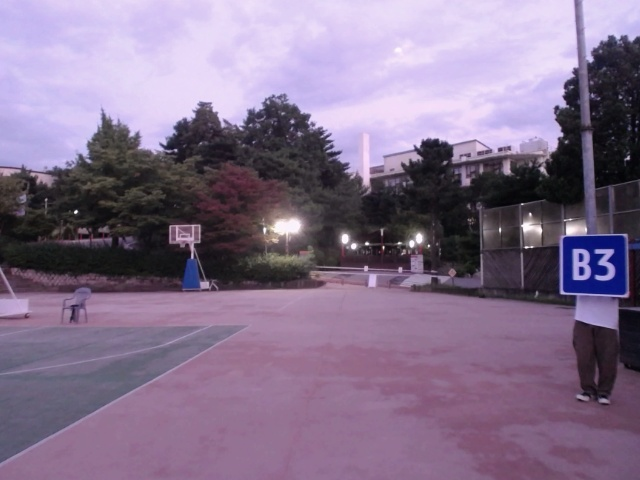delivery_b3: (560, 234, 629, 296)
